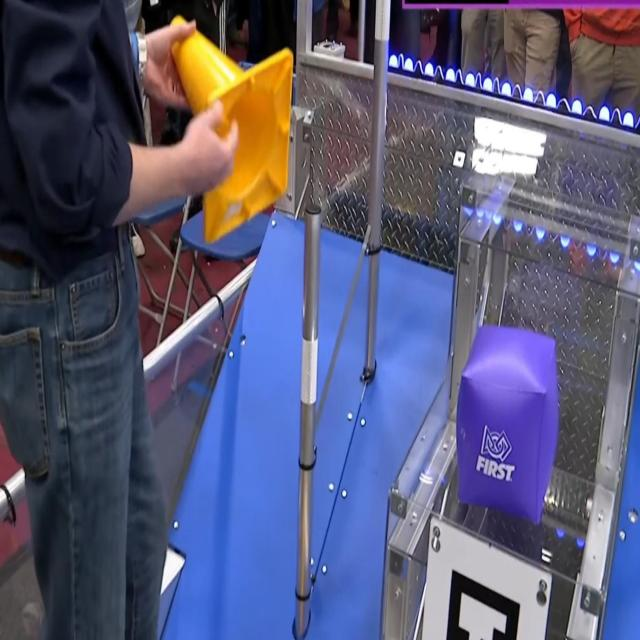frc_cone: (169, 17, 291, 239)
frc_cube: (457, 324, 560, 524)
